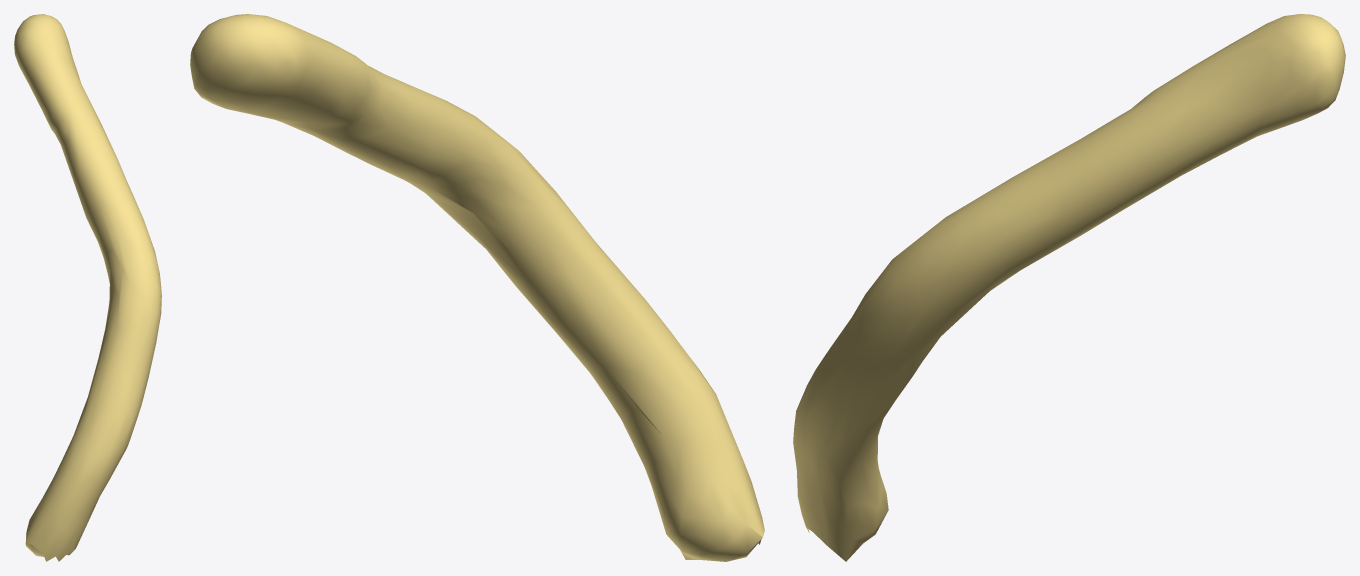
Rendered from fma73394_mm3578.glb.
3 views of the same model, side by side, from view 1: azimuth 30°, elevation 25°; view 2: azimuth 150°, elevation 25°; view 3: azimuth 270°, elevation 25° (orthographic). The views are drawn at different scales.
Parts seen in each view (by area): view 1: FMA73394_MM3578; view 2: FMA73394_MM3578; view 3: FMA73394_MM3578.
Part boxes in pixels (<box>): FMA73394_MM3578: <box>14,14,161,561</box>; FMA73394_MM3578: <box>190,14,764,561</box>; FMA73394_MM3578: <box>793,14,1345,561</box>.
Size of the model in its own units: 0.00656 by 0.0134 by 0.0106.
